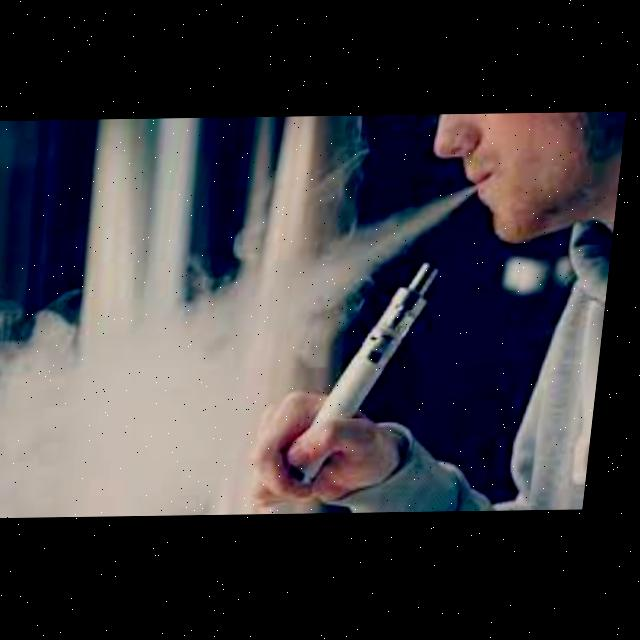vape: (292, 256, 449, 481)
